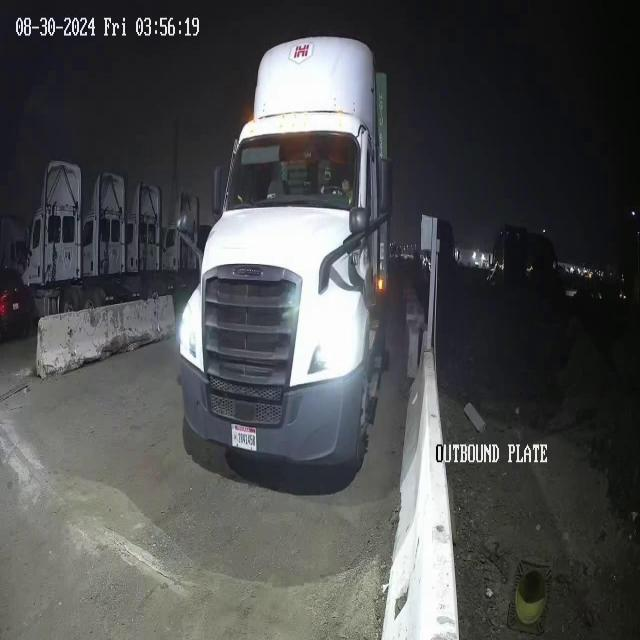TRUCK_OUT: (176, 34, 392, 482)
